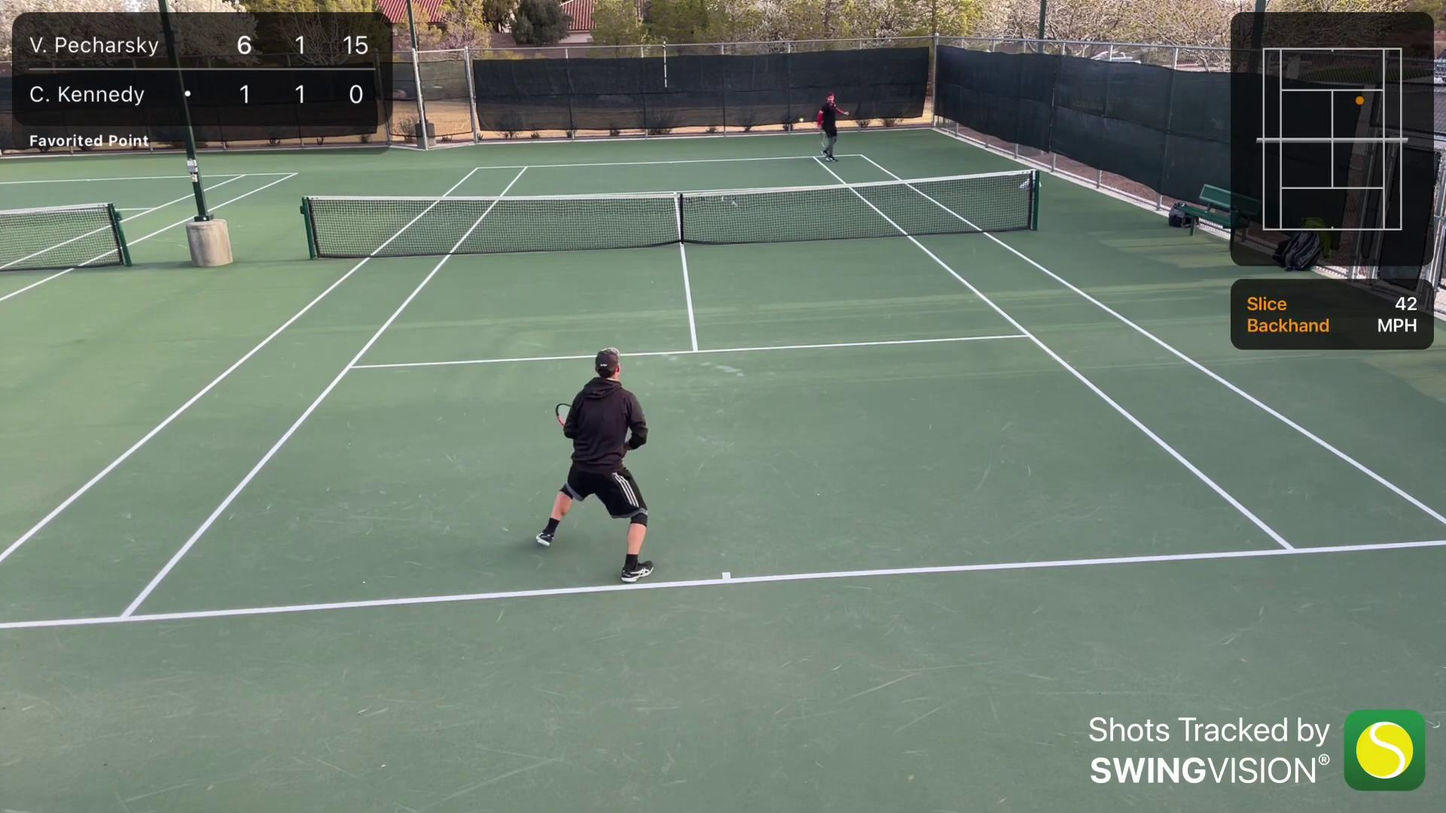ball: (796, 117, 805, 124)
